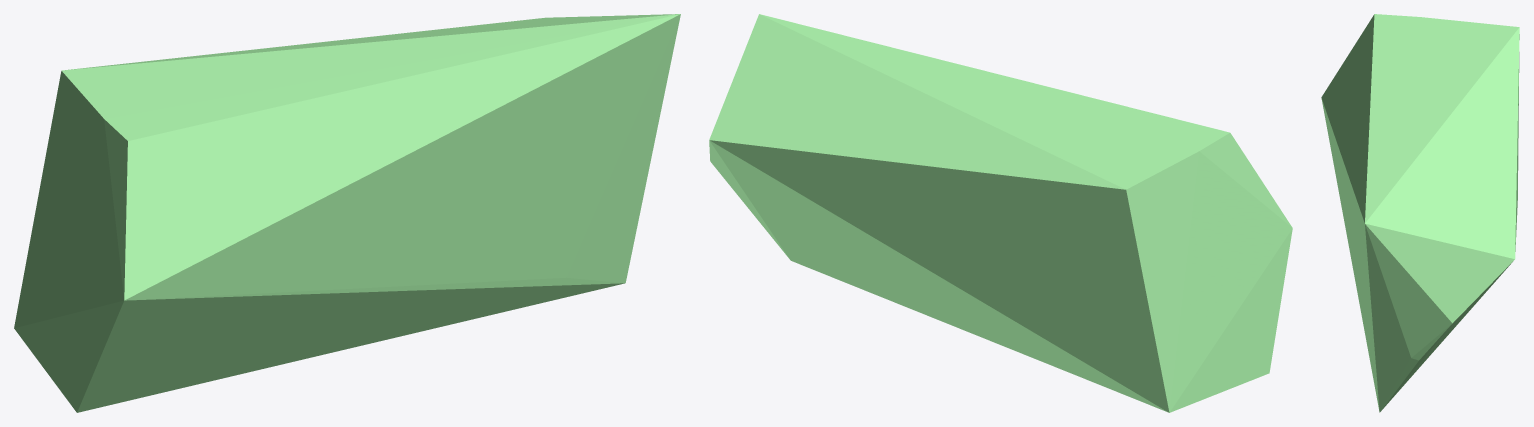
The model's file is linkhou_robot_base_coll_17.dae.
3 views of the same model, side by side, from view 1: azimuth 30°, elevation 25°; view 2: azimuth 150°, elevation 25°; view 3: azimuth 270°, elevation 25° (orthographic). The views are drawn at different scales.
Visible parts, largest first — view 1: Node_00000209DB3ABE50; view 2: Node_00000209DB3ABE50; view 3: Node_00000209DB3ABE50.
Part boxes in pixels (x1=…): Node_00000209DB3ABE50: x1=14, y1=14, x2=680, y2=412; Node_00000209DB3ABE50: x1=709, y1=14, x2=1292, y2=412; Node_00000209DB3ABE50: x1=1321, y1=14, x2=1519, y2=412.
Size of the model in its own units: 0.0869 by 0.0372 by 0.0321.
